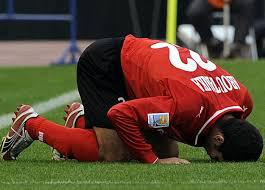sujud: (0, 33, 264, 165)
